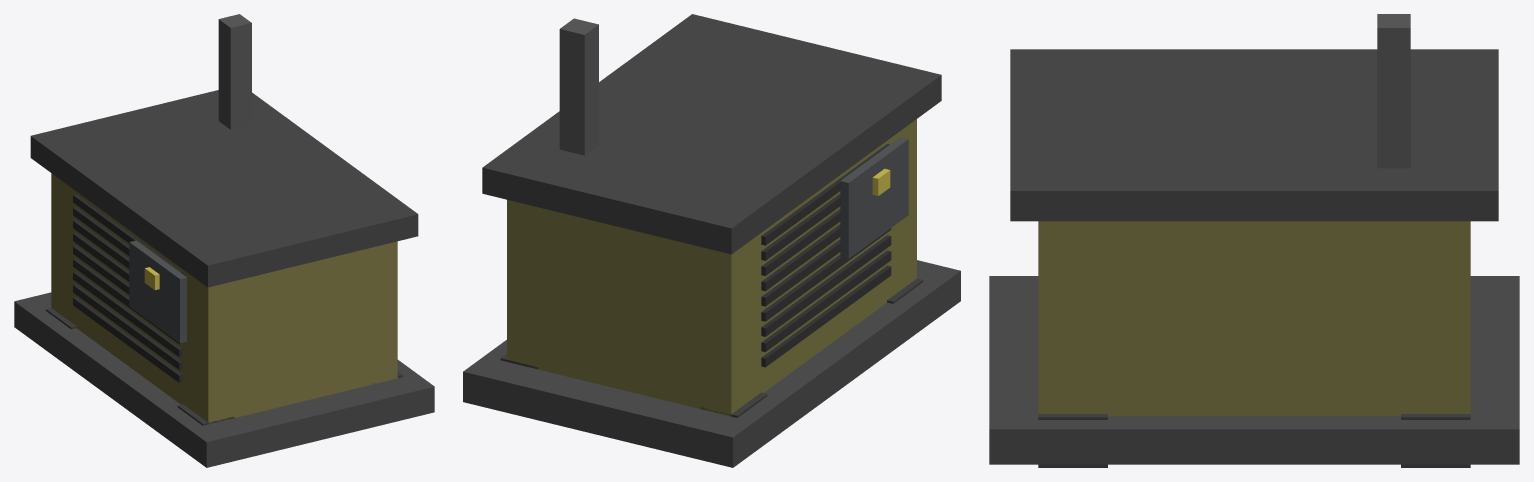
File: SM_CheckpointGenerator.glb
3 views of the same model, side by side, from view 1: azimuth 30°, elevation 25°; view 2: azimuth 150°, elevation 25°; view 3: azimuth 270°, elevation 25° (orthographic). The views are drawn at different scales.
Visible parts, largest first — view 1: top, engine, frame, control_panel, exhaust, vent0, vent1, vent2, vent8, vent3, vent4, vent5 (+2 smaller); view 2: top, engine, frame, control_panel, exhaust, vent2, vent1, vent0, vent8, vent3, vent6, vent5 (+2 smaller); view 3: engine, top, frame, exhaust, foot0.48-0.65, foot0.480.65.
Boxes of the visible parts, left/top/right/bottom form: top: left=30, top=90, right=418, bottom=287; engine: left=51, top=173, right=397, bottom=423; frame: left=14, top=292, right=434, bottom=467; control_panel: left=129, top=240, right=186, bottom=343; exhaust: left=218, top=14, right=251, bottom=129; vent0: left=73, top=297, right=182, bottom=382; vent1: left=73, top=284, right=182, bottom=369; vent2: left=73, top=271, right=182, bottom=357; vent8: left=73, top=194, right=182, bottom=273; vent3: left=73, top=258, right=182, bottom=344; vent4: left=73, top=245, right=129, bottom=294; vent5: left=73, top=232, right=129, bottom=281; top: left=482, top=14, right=941, bottom=254; engine: left=507, top=119, right=916, bottom=416; frame: left=463, top=260, right=960, bottom=467; control_panel: left=840, top=137, right=908, bottom=258; exhaust: left=559, top=18, right=598, bottom=155; vent2: left=761, top=235, right=891, bottom=336; vent1: left=761, top=250, right=891, bottom=352; vent0: left=761, top=265, right=891, bottom=367; vent8: left=761, top=144, right=889, bottom=245; vent3: left=761, top=228, right=891, bottom=321; vent6: left=761, top=209, right=840, bottom=275; vent5: left=761, top=224, right=840, bottom=291; engine: left=1038, top=221, right=1470, bottom=416; top: left=1010, top=49, right=1498, bottom=221; frame: left=989, top=276, right=1519, bottom=464; exhaust: left=1377, top=14, right=1410, bottom=168; foot0.48-0.65: left=1401, top=414, right=1470, bottom=467; foot0.480.65: left=1038, top=414, right=1107, bottom=467.
Size of the model in its own units: 1.3 by 1.66 by 1.9.
